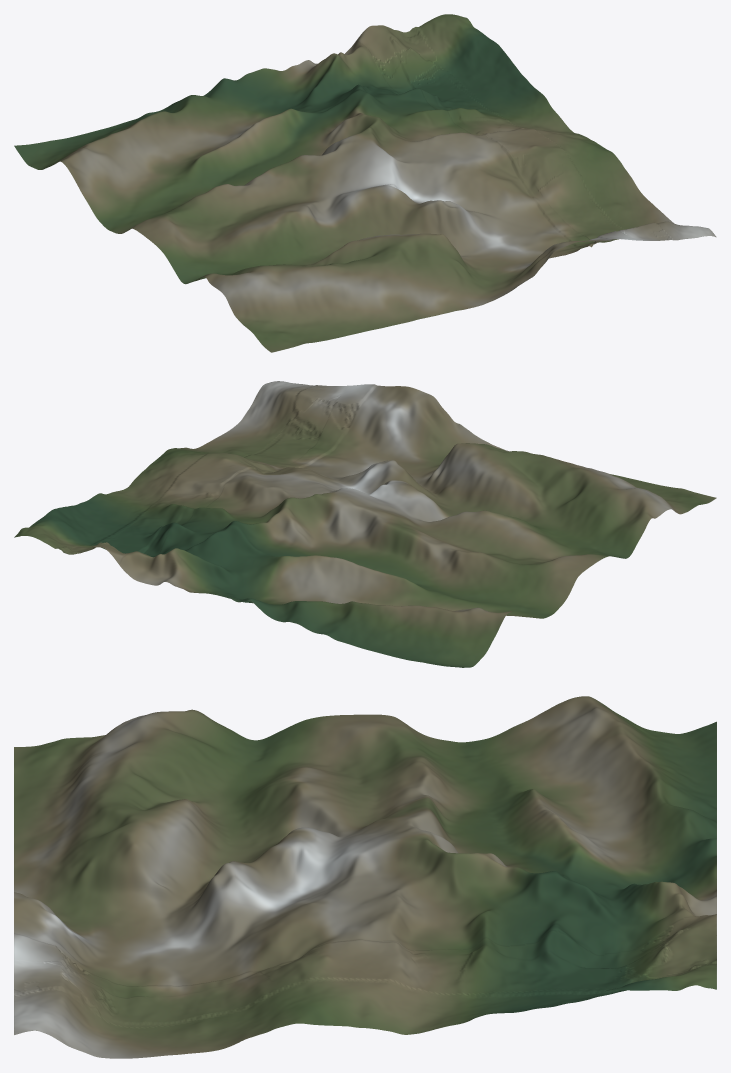
Rendered from kebnekaise_imported_terrain.gltf.
3 renders of one model, top to bottom at view 1: azimuth 30°, elevation 25°; view 2: azimuth 150°, elevation 25°; view 3: azimuth 270°, elevation 25°, orthographic. The views are drawn at different scales.
Visible parts, largest first — view 1: kebnekaise_imported; view 2: kebnekaise_imported; view 3: kebnekaise_imported.
Boxes of the visible parts, box(x1,y1,x2,y2) form: kebnekaise_imported: box(14, 14, 716, 352); kebnekaise_imported: box(14, 381, 716, 667); kebnekaise_imported: box(14, 696, 716, 1058).
Bounding box in the file's own units: 55.23 × 7.61 × 55.23.
1 material, 1 textured.
